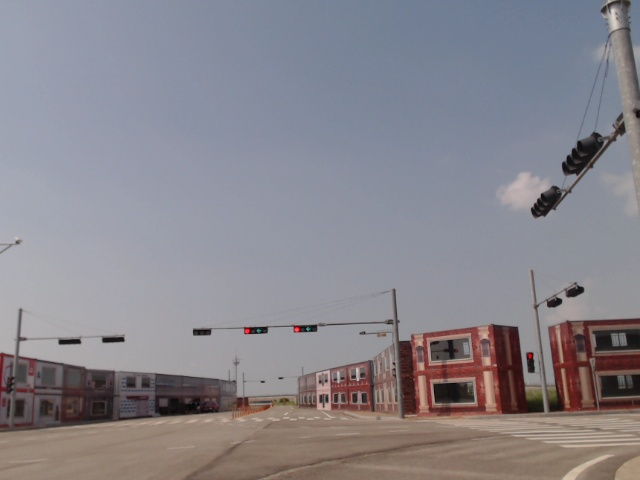left_green_4: (244, 328, 268, 334), (294, 326, 317, 332)
